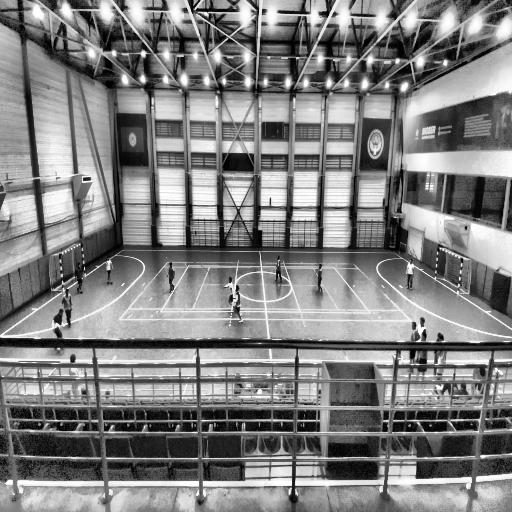ball: (56, 347, 62, 355)
player: (52, 307, 66, 347), (232, 285, 244, 324), (222, 277, 236, 310), (62, 288, 73, 327), (74, 262, 86, 295), (105, 254, 114, 287), (167, 261, 176, 294), (406, 258, 414, 292), (274, 254, 282, 284), (316, 262, 323, 294)
